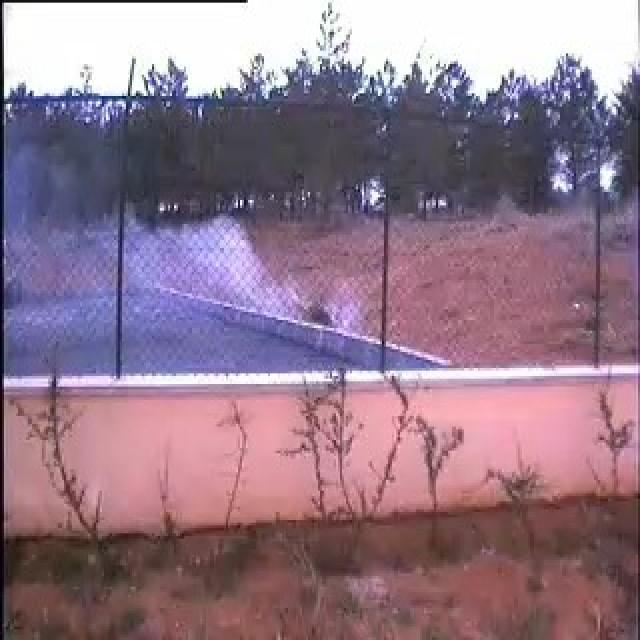smoke: (65, 168, 312, 362)
